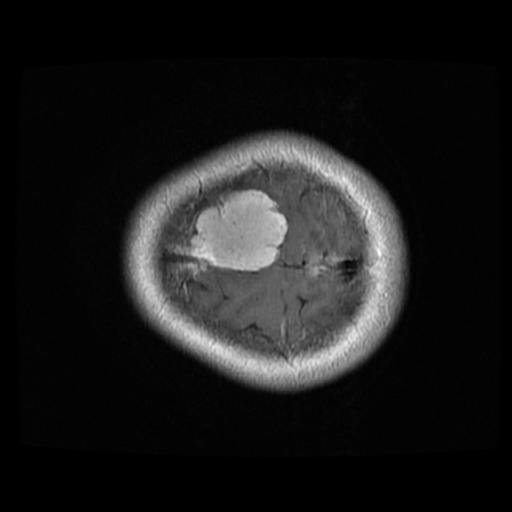meningioma: (189, 189, 288, 272)
